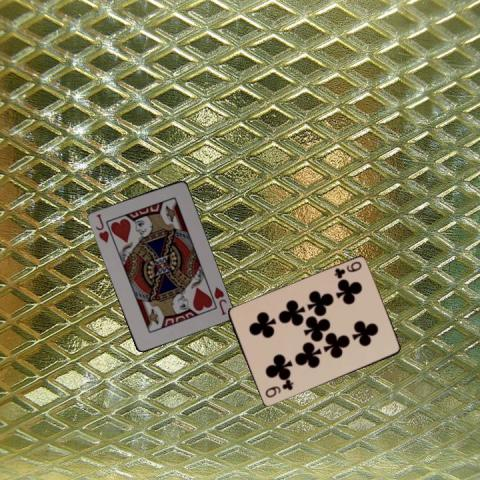9c: (330, 258, 362, 280), (262, 379, 295, 399)
Jh: (92, 210, 110, 244), (211, 283, 228, 316)
